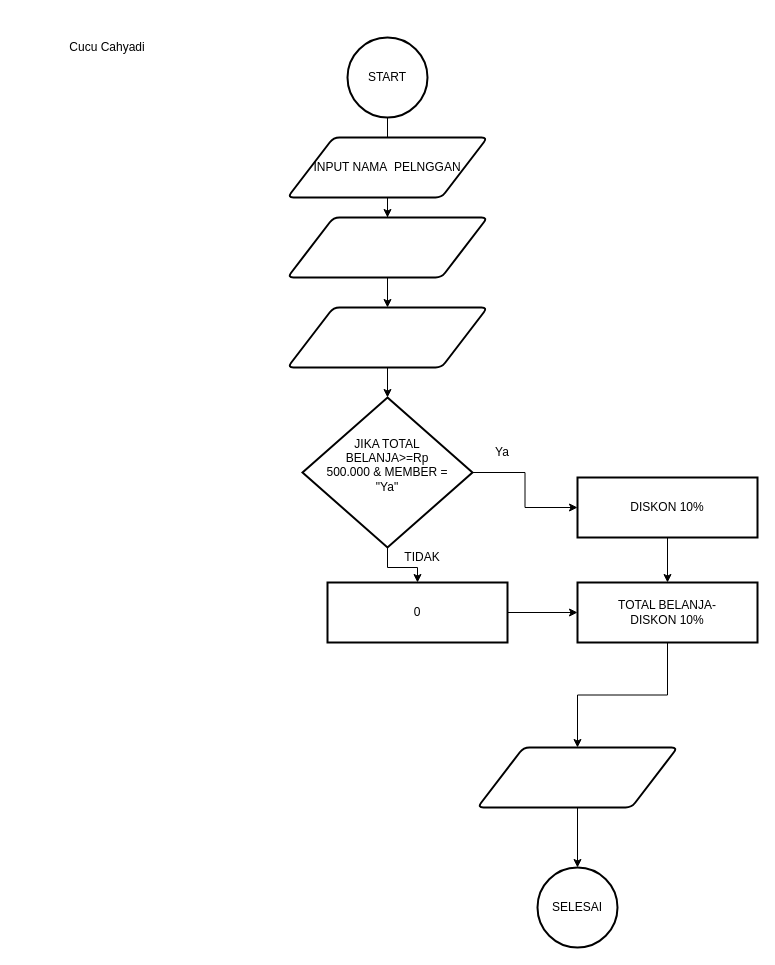
The diagram is 775 pixels wide and 965 high, and some of its shapes have lost their labels. The centre of each missing label's shape, as x and y in pixels:
"INPUT MEMBER" belongs at point (387, 337).
"INPUT TOTAL BELANJA" belongs at point (387, 247).
"TOTAL BAYAR" belongs at point (577, 777).
